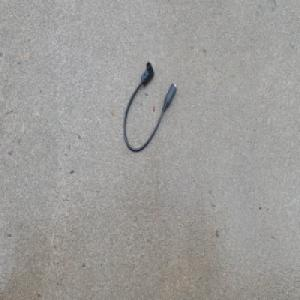Wire: (122, 60, 177, 153)
